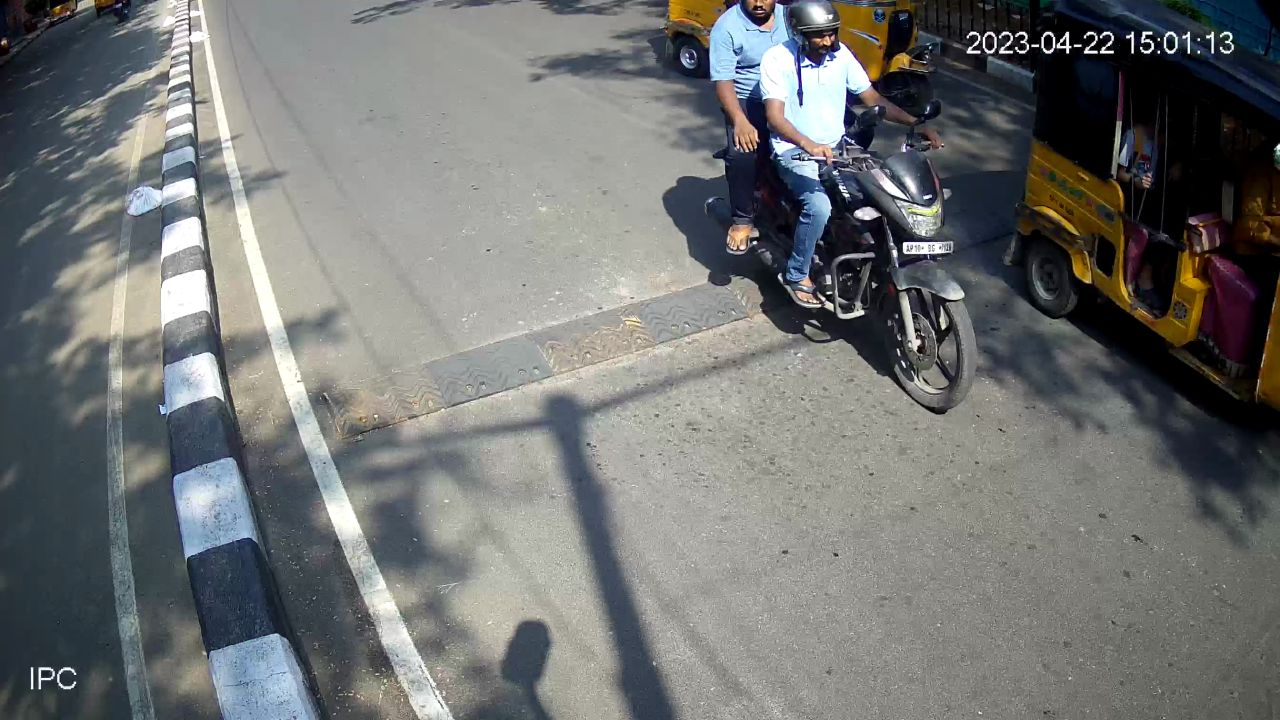license_plate: (896, 236, 963, 261)
